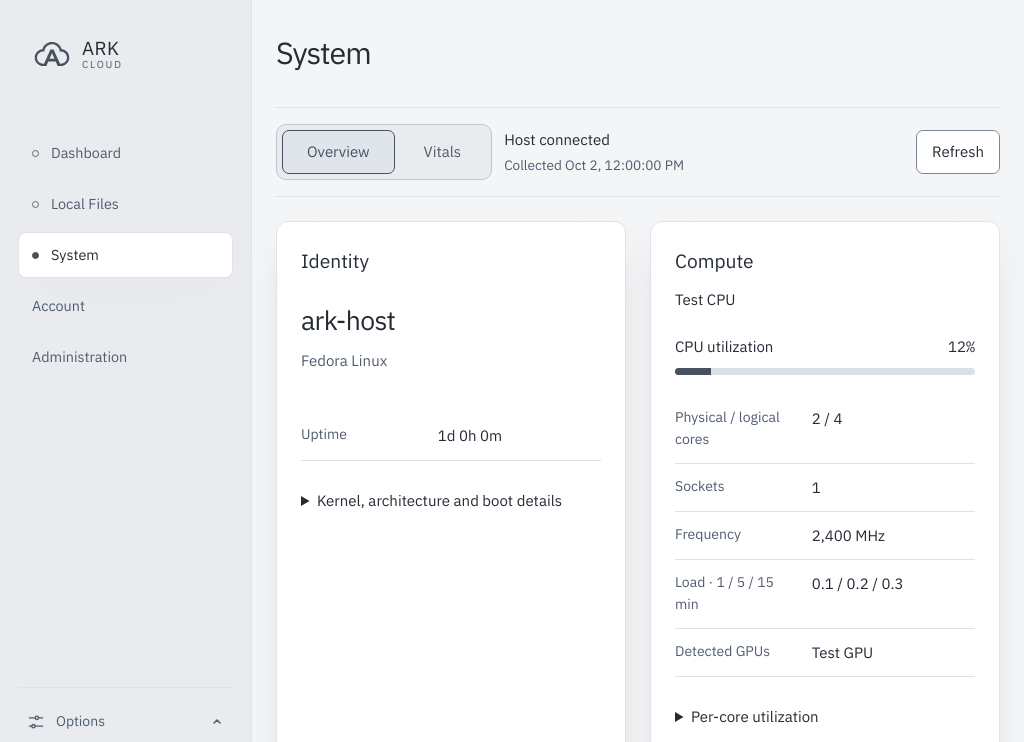
Test: legacy route opens System, identity leads, Vitals moves resource panels, and terminal stays last
Expected: the heading "System" is shown, left=276, top=36, right=371, bottom=71
Expected: the text "ark-host" is shown, left=301, top=303, right=395, bottom=337
Click the tab "Vitals" at (442, 152), box left=424, top=142, right=461, bottom=161
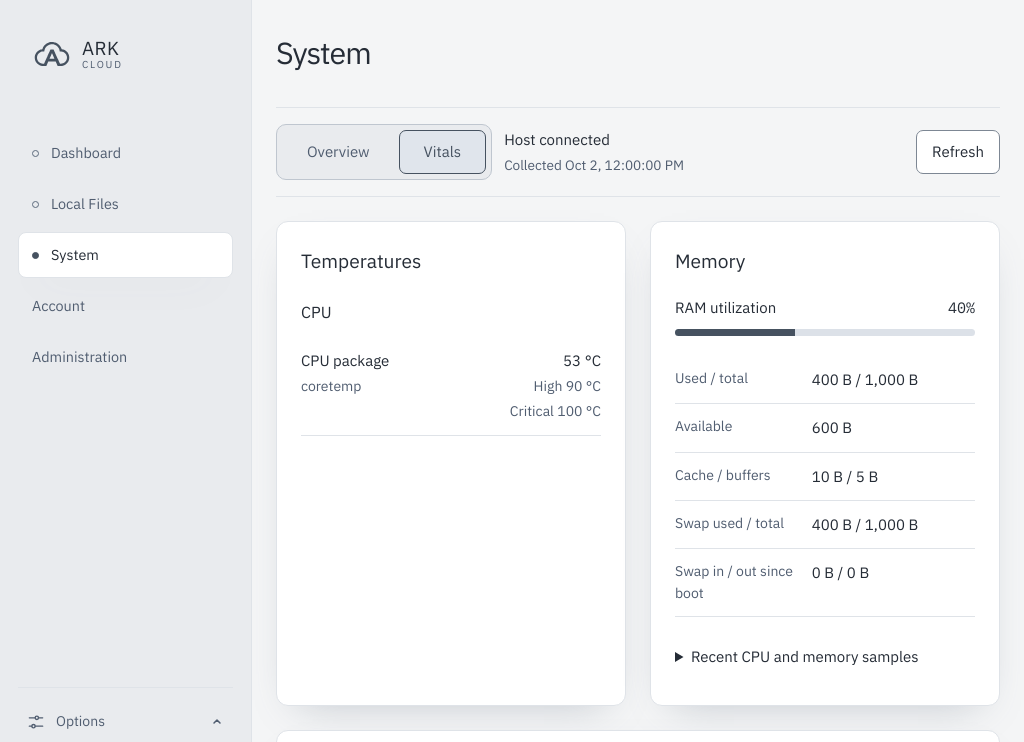
Expected: the heading "Temperatures" is shown, left=301, top=248, right=421, bottom=273
Expected: the text "53 °C" is shown, left=563, top=350, right=601, bottom=370
Press Home in the tab "Vitals", box left=399, top=130, right=486, bottom=174
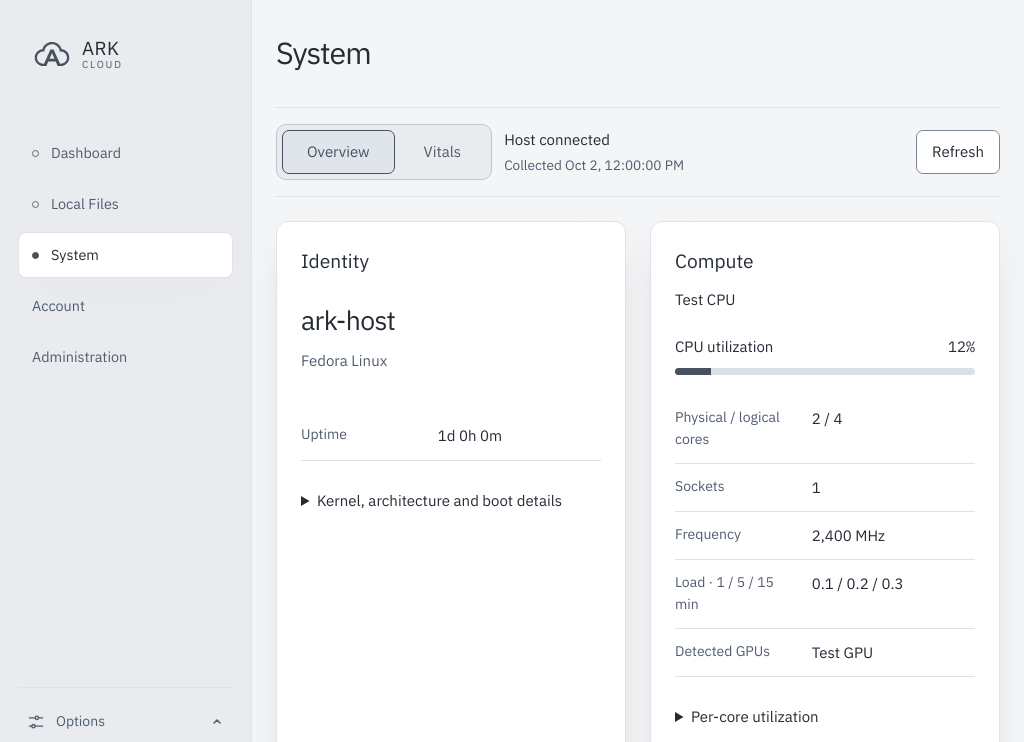
Expected: the heading "Identity" is shown, left=301, top=248, right=369, bottom=273
